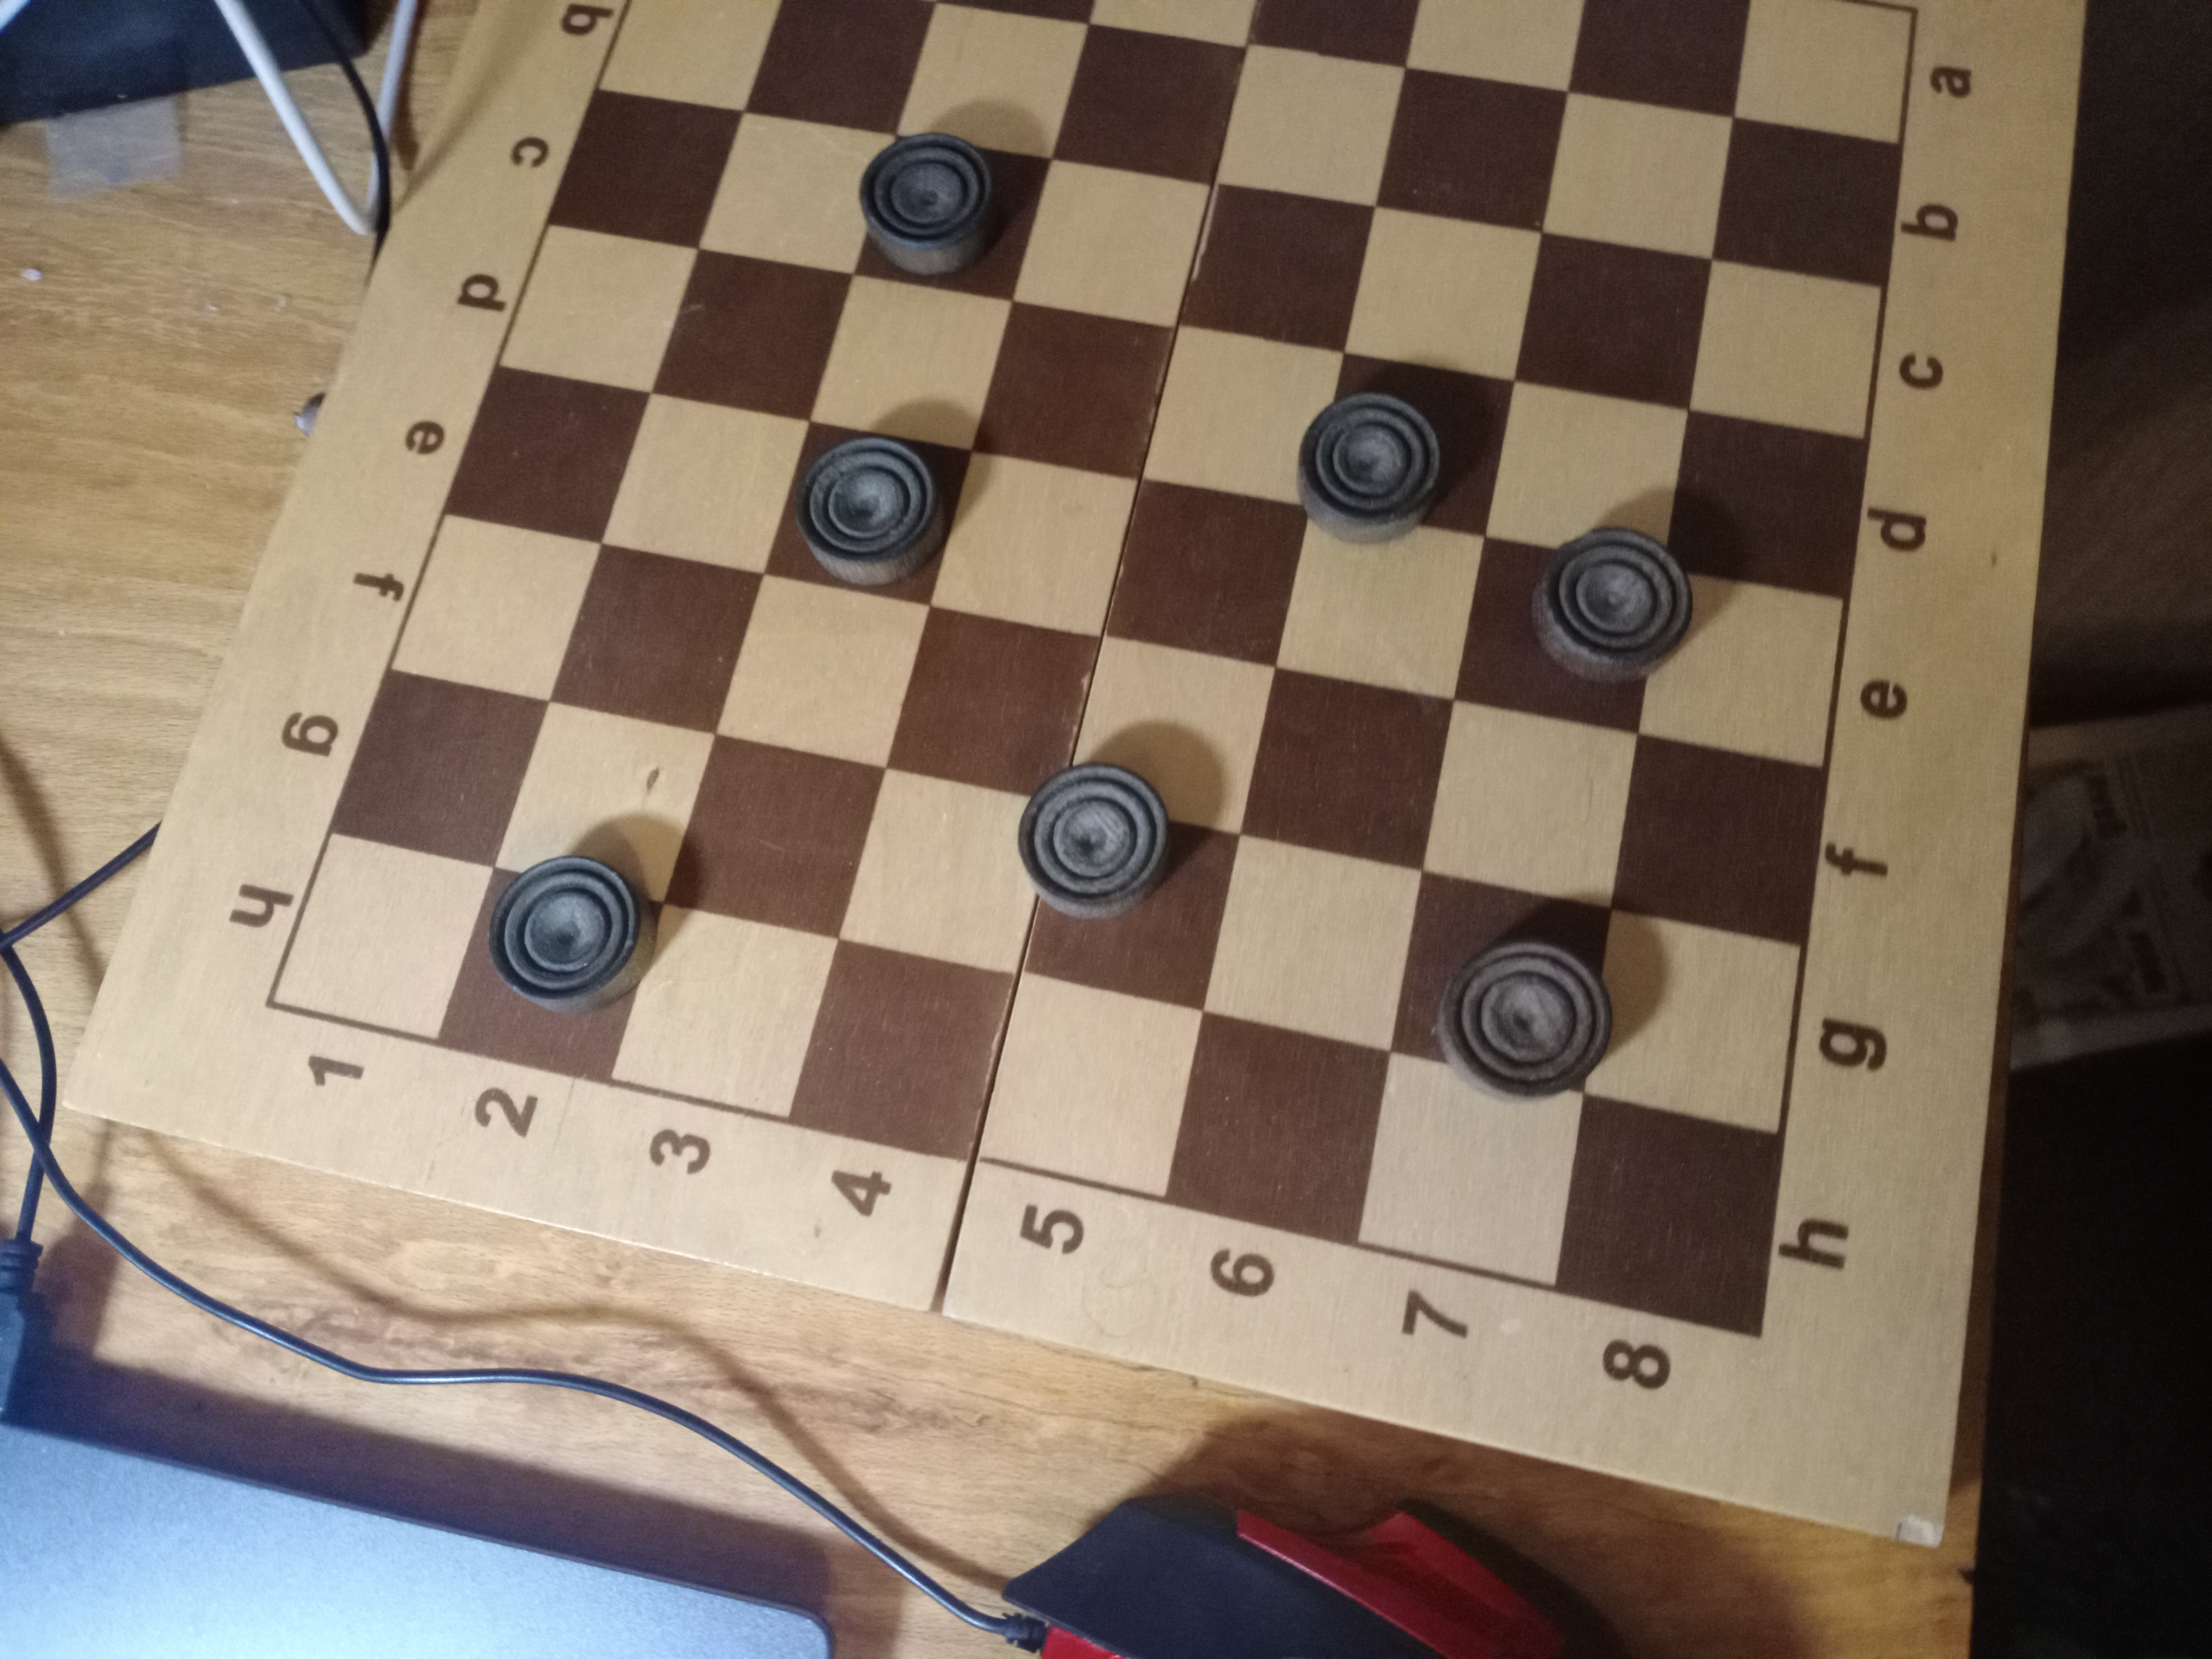Black_Draught: (1017, 760, 1240, 1011), (428, 856, 665, 1082), (1390, 870, 1616, 1105), (1456, 526, 1696, 734), (1299, 347, 1512, 547), (759, 422, 972, 606), (855, 127, 1050, 303)
